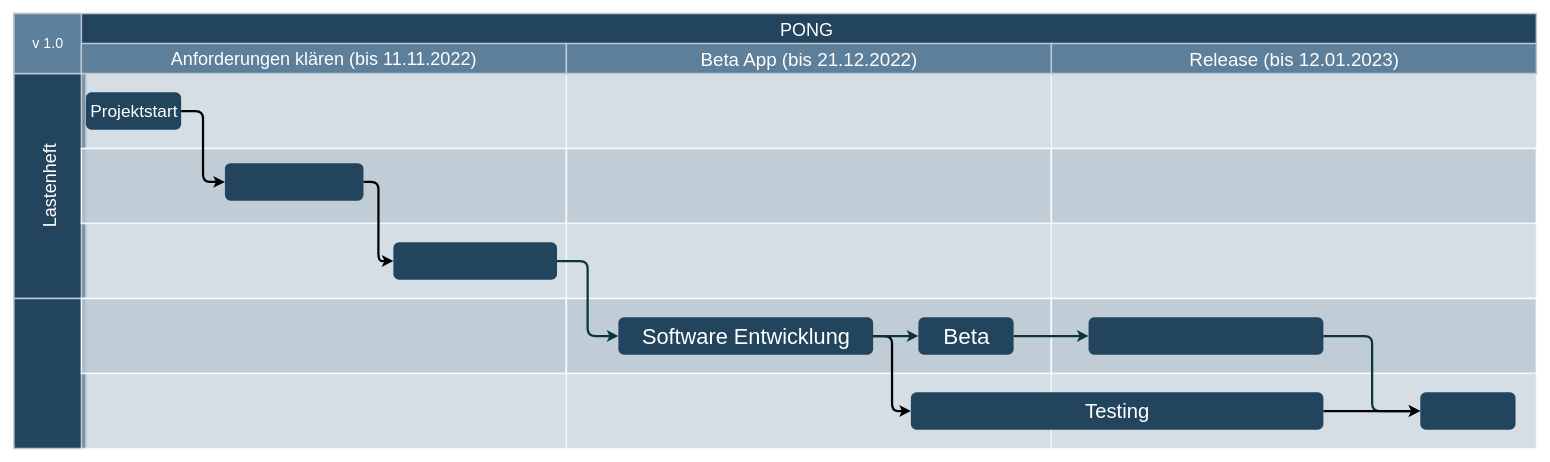
The diagram is 1550 pixels wide and 462 high, and some of its shapes have lost their labels. The centre of each missing label's shape, as x and y in pixels:
"Abnahme" goes at [1467,410].
"Anforderungen klären" goes at [294,181].
"Entwicklung" goes at [49,373].
"Kundenfeedback verarbeiten" goes at [1205,335].
"Unterschrift Lastenheft" goes at [475,260].
